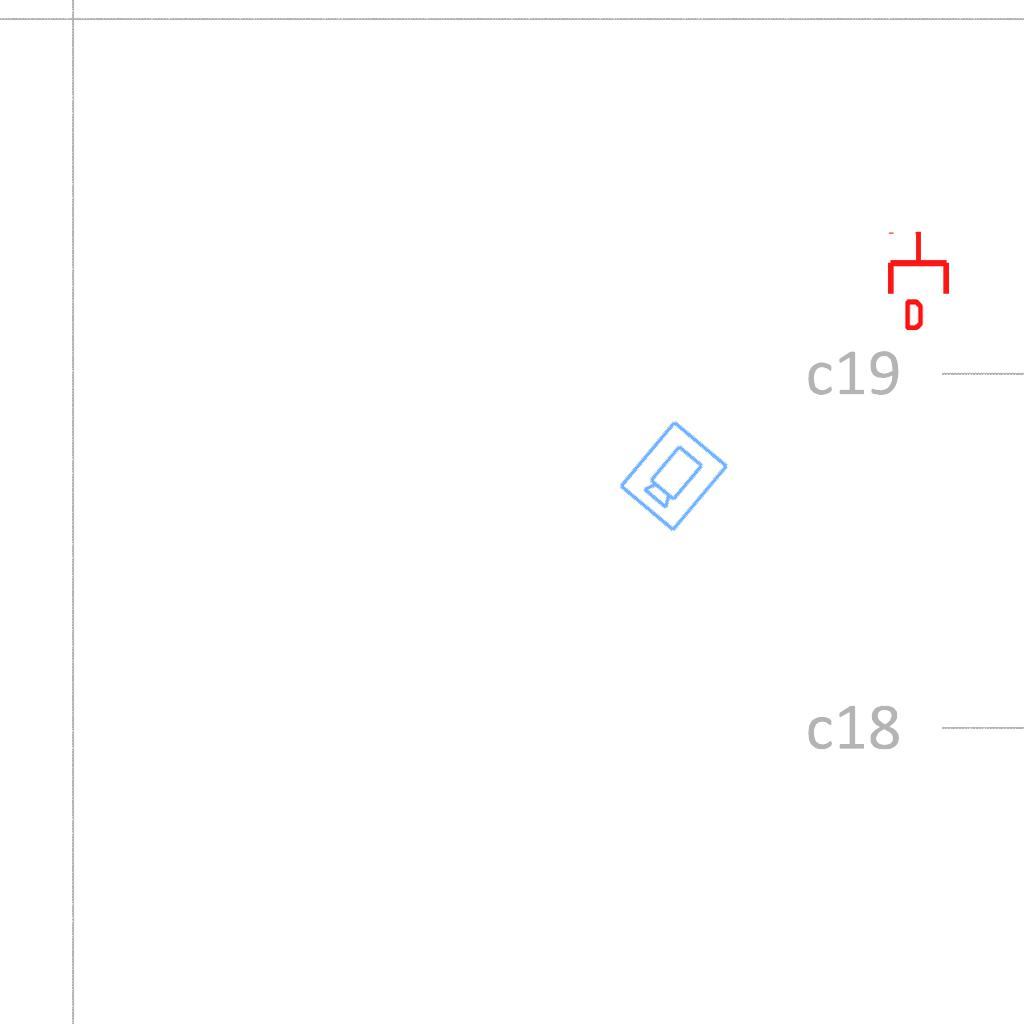Datenanschluss_einfach: (884, 230, 953, 330)
KFO_Kamera_mit_Festobjektiv: (614, 415, 733, 536)
